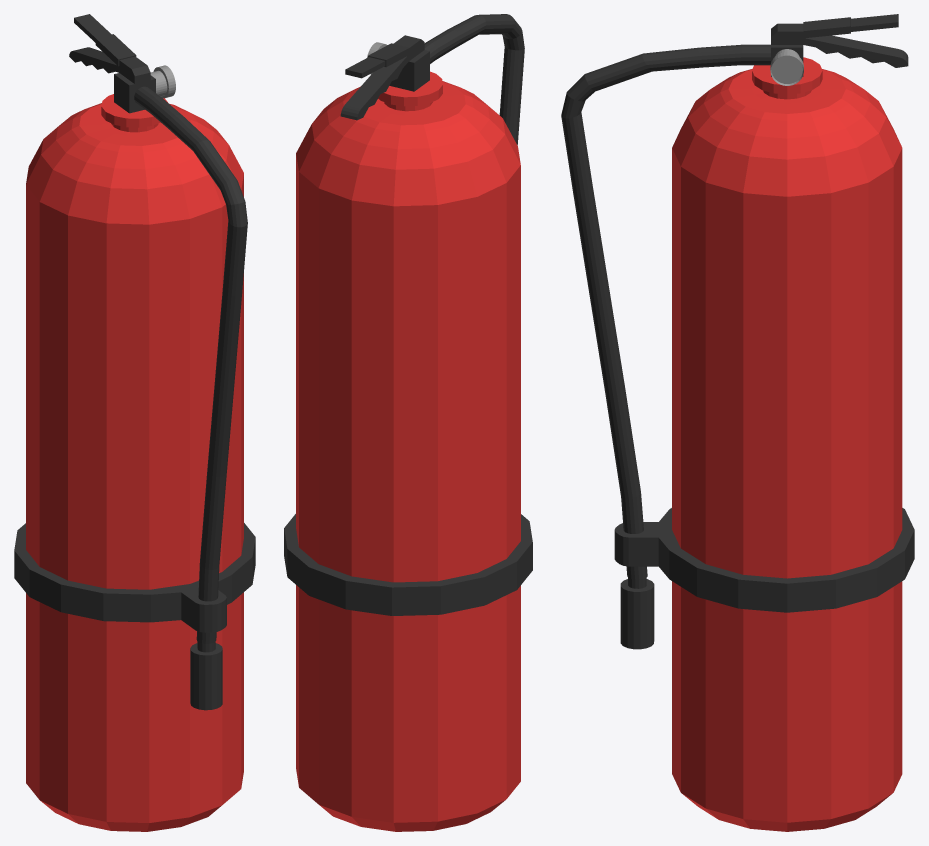
File: uploads_files_1008227_lowpoly_fireextinguisher.fbx
3 renders of one model, left to right at view 1: azimuth 30°, elevation 25°; view 2: azimuth 150°, elevation 25°; view 3: azimuth 270°, elevation 25°, orthographic. The views are drawn at different scales.
Visible parts, largest first — view 1: Cylinder.001; view 2: Cylinder.001; view 3: Cylinder.001.
Part boxes in pixels (box(x1,y1,x2,y2)): Cylinder.001: box(14, 14, 255, 831); Cylinder.001: box(284, 14, 532, 831); Cylinder.001: box(561, 14, 914, 831).
Size of what is drawn, in the model's own units: 54.44 by 182 by 75.48.
